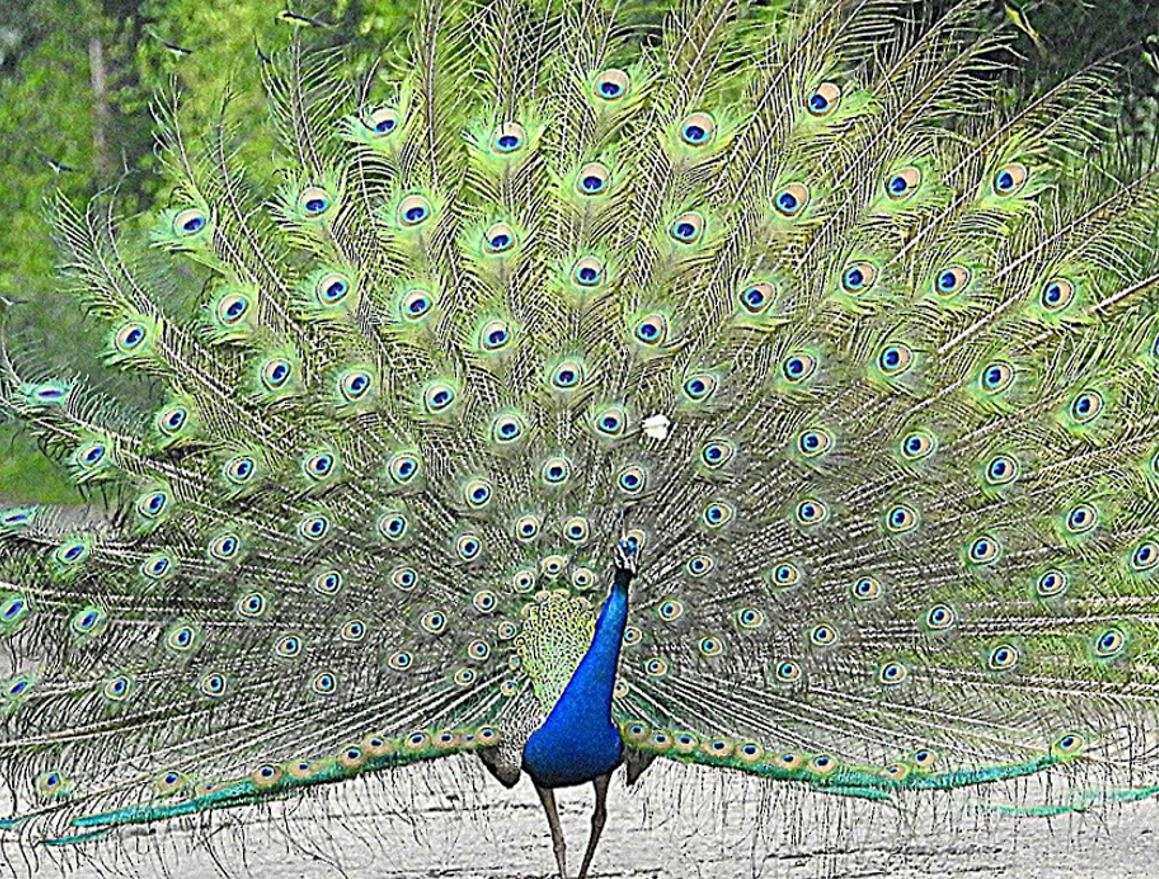peacock: (1, 259, 991, 879)
